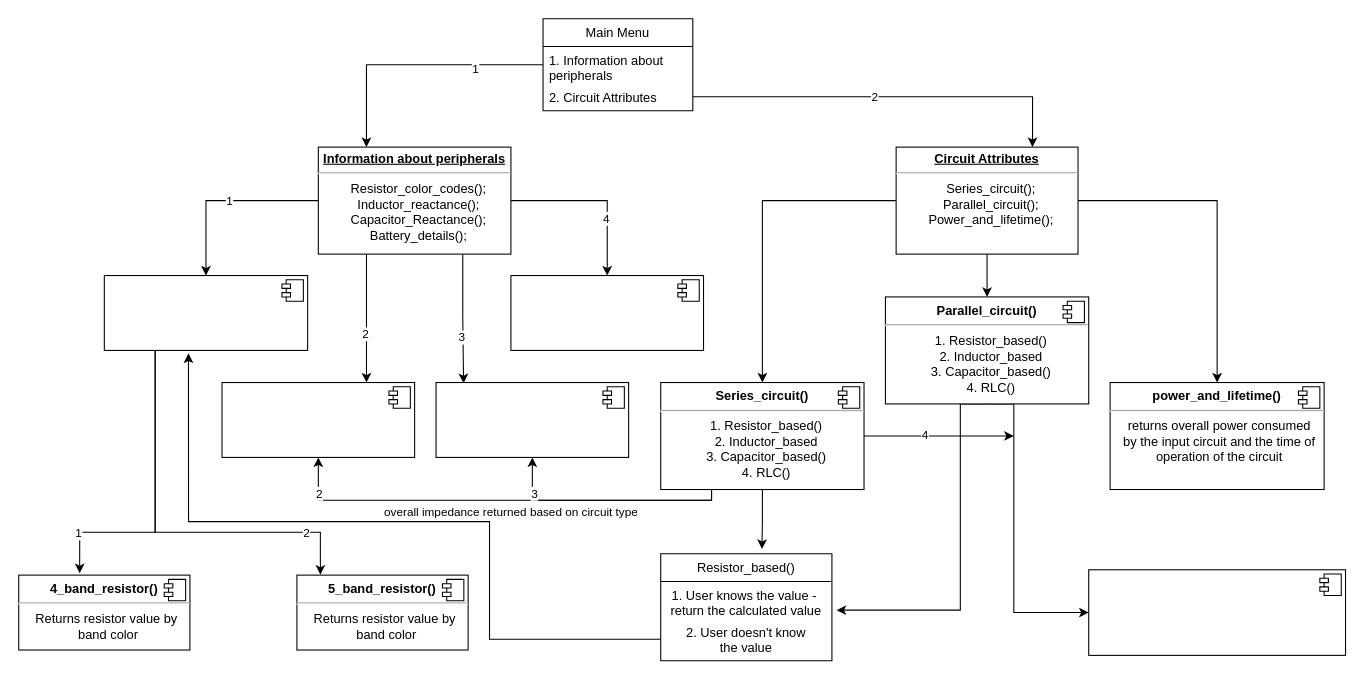
Some shapes in this 1364 by 683 pixel diagram are drawn without their labels. The shapes that lost their labels are listed below. From the top down, each one's centre as x and y in pixels, then its label:
At [205,312]: "Resistor_Color_codes() 1. 4_band_resistors(); 2. 5_band_resistors();".
At [607,312]: "Battery_details() prints the details of the battery based on the input type".
At [318,419]: "Inductor_reactance() Returns inductor reactance value based on frequency".
At [532,419]: "Capacitor_reactance() Returns capacitor reactance value based on frequency".
At [1217,612]: "RLC() Series_RLC Parsllel_RLC()".
